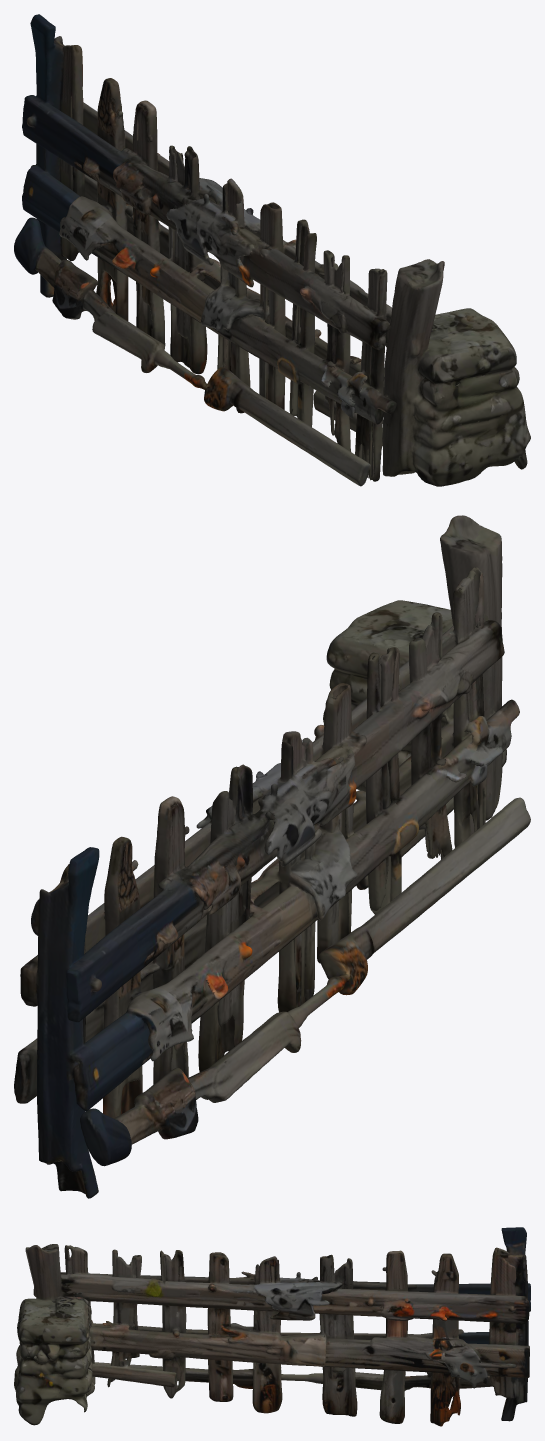
File: fence.glb
3 views of the same model, one above another, from view 1: azimuth 30°, elevation 25°; view 2: azimuth 150°, elevation 25°; view 3: azimuth 270°, elevation 25° (orthographic). The views are drawn at different scales.
Parts seen in each view (by area): view 1: tripo_node_e0c37afc-10f7-484f-99f6-1b20a095e88e; view 2: tripo_node_e0c37afc-10f7-484f-99f6-1b20a095e88e; view 3: tripo_node_e0c37afc-10f7-484f-99f6-1b20a095e88e.
Boxes of the visible parts, <box> form: tripo_node_e0c37afc-10f7-484f-99f6-1b20a095e88e: <box>14,14,530,486</box>; tripo_node_e0c37afc-10f7-484f-99f6-1b20a095e88e: <box>14,515,530,1198</box>; tripo_node_e0c37afc-10f7-484f-99f6-1b20a095e88e: <box>14,1227,530,1426</box>.
Size of the model in its own units: 0.2582 by 0.4077 by 1.
Materials: 1 (1 with a texture image).
